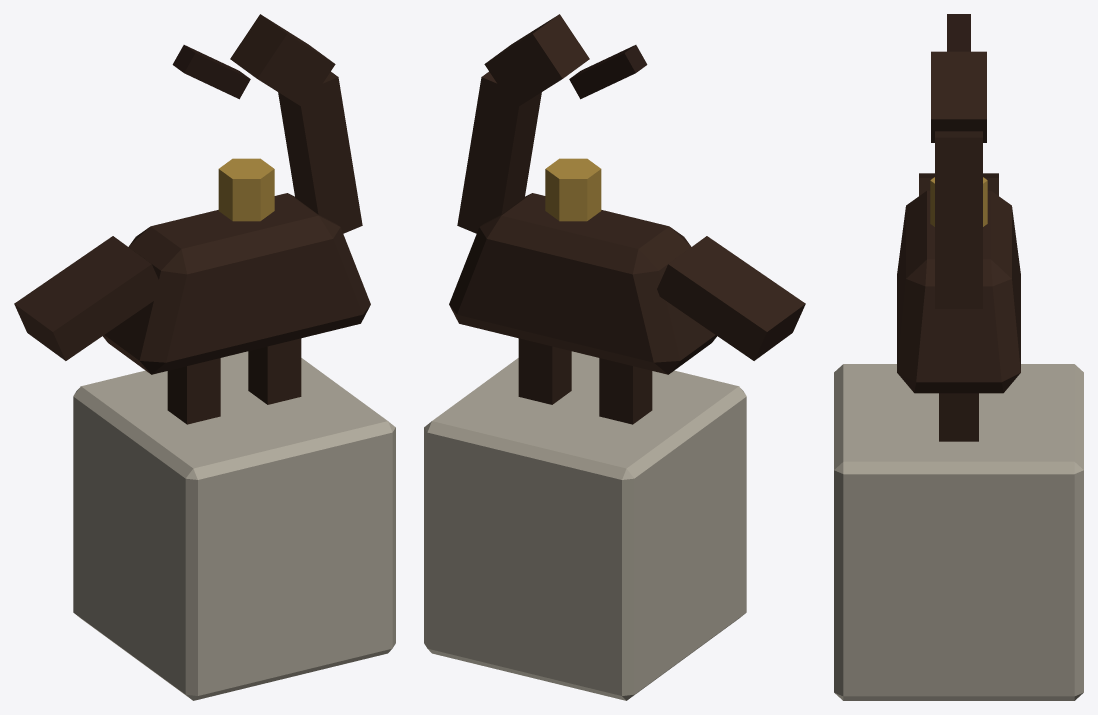
Rendered from sculpture-31.glb.
The picture shows the model from 3 angles, left to right: view 1: azimuth 30°, elevation 25°; view 2: azimuth 150°, elevation 25°; view 3: azimuth 270°, elevation 25°; orthographic projection. The views are drawn at different scales.
Visible parts, largest first — view 1: sculpture_31; view 2: sculpture_31; view 3: sculpture_31.
Boxes of the visible parts, x1,y1,x2,y2 form: sculpture_31: (14,14,395,700); sculpture_31: (424,14,805,700); sculpture_31: (834,14,1083,700).
Bounding box in the file's own units: 0.2433 × 0.4411 × 0.1611.
